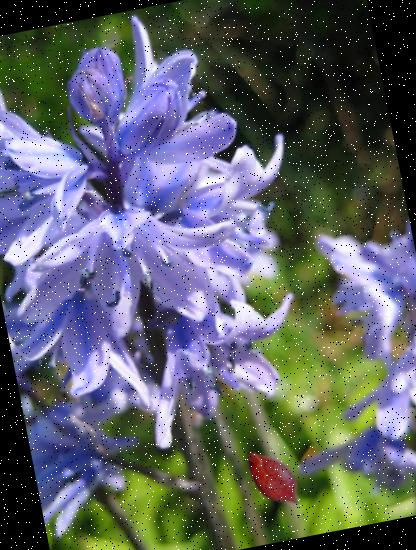Salak: (231, 438, 315, 522)
